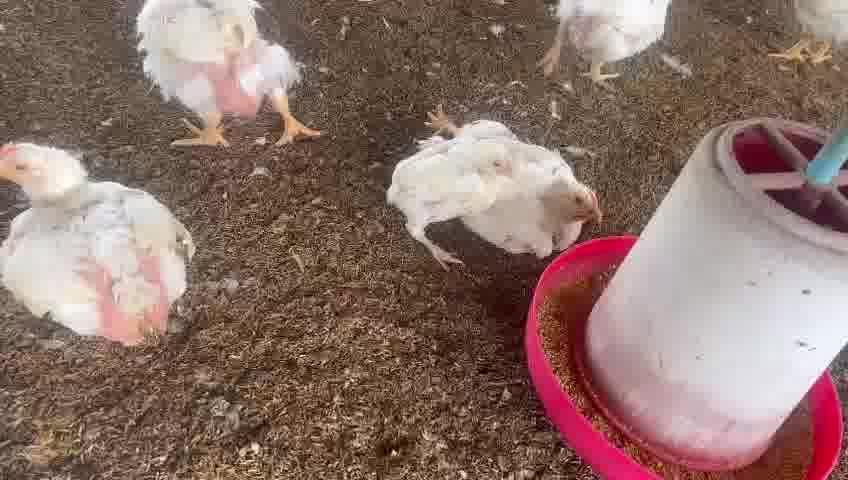AbNormal: (424, 101, 601, 256), (379, 144, 509, 251)
Normal: (0, 130, 202, 359), (125, 0, 335, 169), (541, 0, 685, 92)
